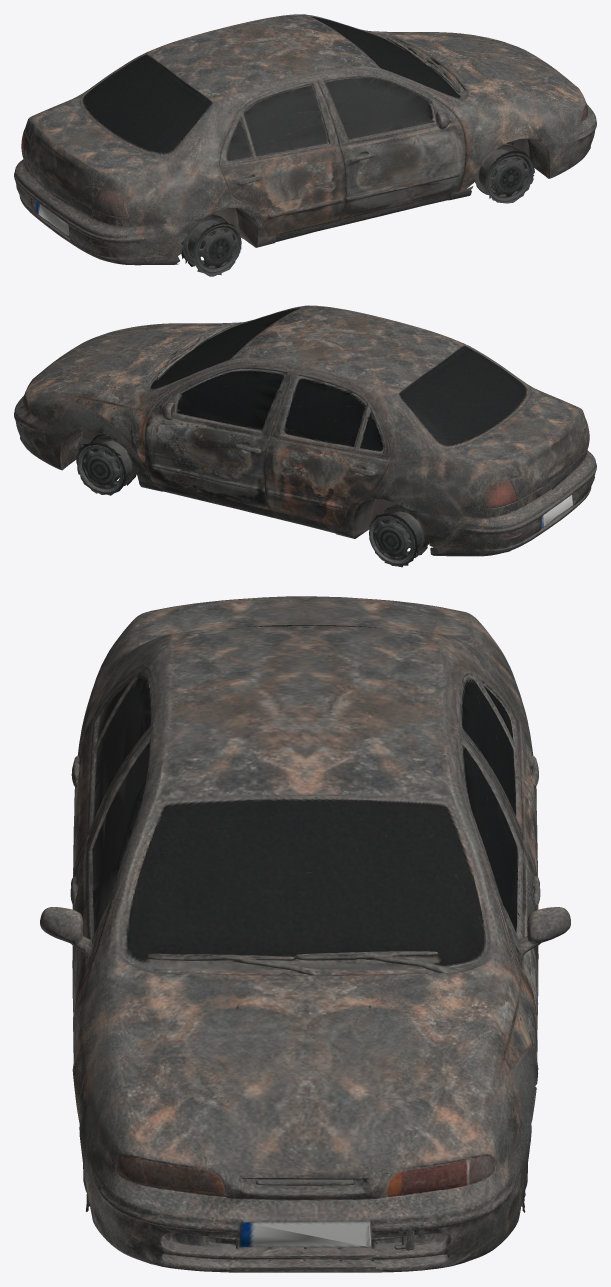
The model's file is barao-queimado__01a16dcf.glb.
The picture shows the model from 3 angles, top to bottom: view 1: azimuth 30°, elevation 25°; view 2: azimuth 150°, elevation 25°; view 3: azimuth 270°, elevation 25°; orthographic projection. The views are drawn at different scales.
Parts seen in each view (by area): view 1: barao-queimado; view 2: barao-queimado; view 3: barao-queimado.
Part boxes in pixels (<box>): barao-queimado: <box>14,14,596,276</box>; barao-queimado: <box>14,305,596,567</box>; barao-queimado: <box>40,596,570,1272</box>.
Bounding box in the file's own units: 4.39 × 1.32 × 1.95.
Materials: 1 (1 with a texture image).
